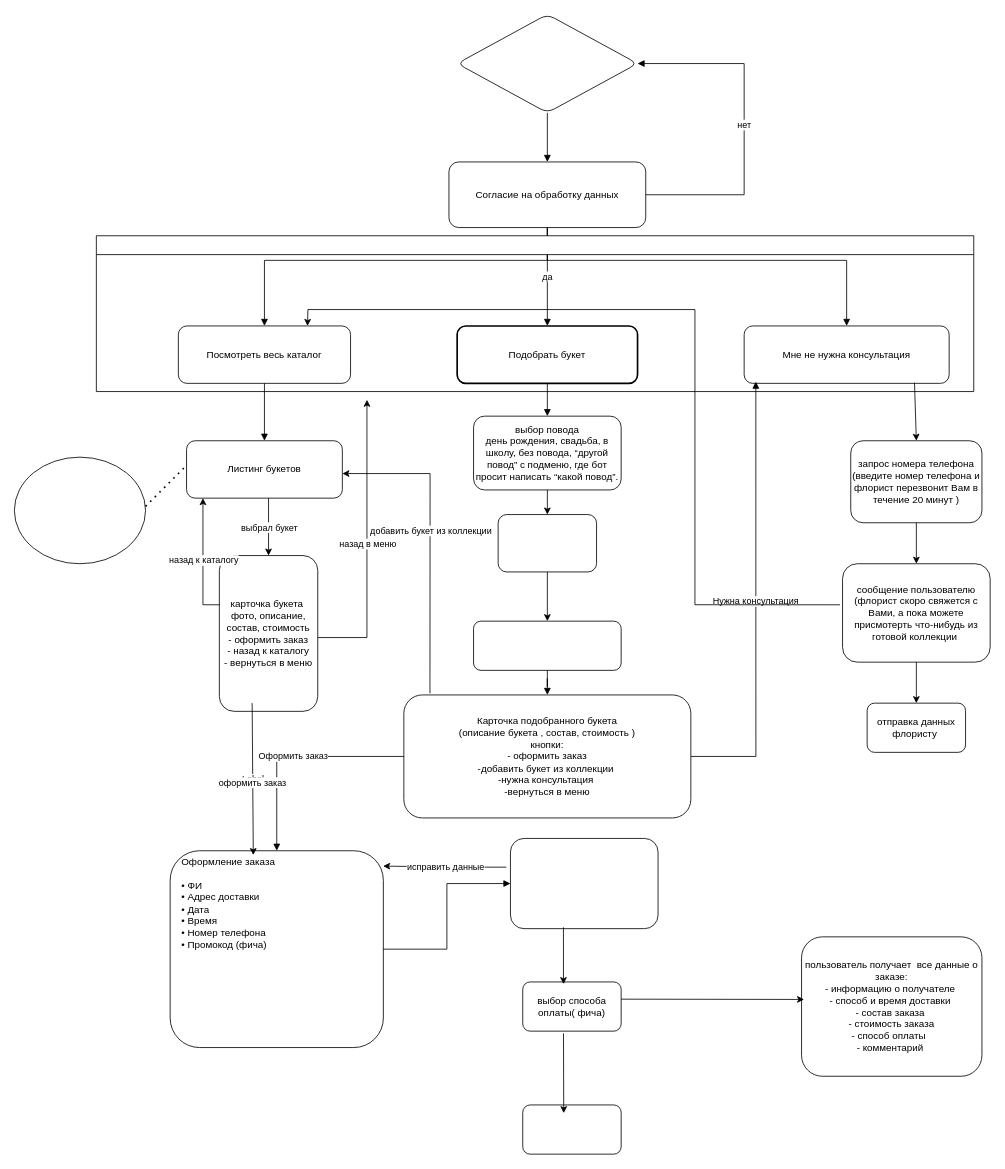
Some shapes in this 1005 by 1169 pixel diagram are drawn without their labels. The shapes that lost their labels are listed below. From the top down, each one's box as (x1, y1, x2, y2) in pixels, then its label:
(456, 14, 638, 113): Старт бота
(96, 235, 974, 392): меню
(14, 456, 146, 564): действия в каталоге: - следующий букет - предыдущий букет -выбрать букет
(497, 514, 597, 572): выбор цветовой гаммы (фича) белые оттенки, розовые, нежыне и др
(473, 620, 621, 670): Примерная стоимость - 500. -1000. -2000
(510, 838, 658, 929): подтверждение заказа (показ всех данных для проверки)
(522, 1104, 621, 1154): заказ оформлен! Спасибо за заказ! мы с Вами сяжемся
